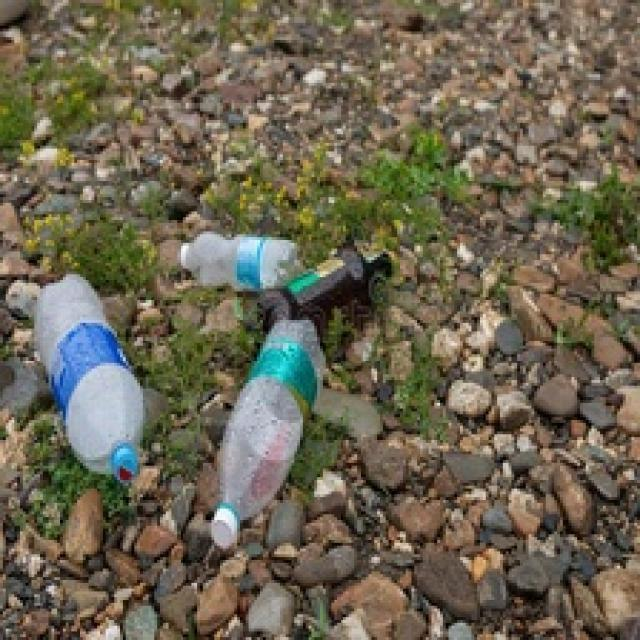Plastic: (208, 323, 330, 548), (30, 276, 146, 482), (171, 228, 296, 296)
